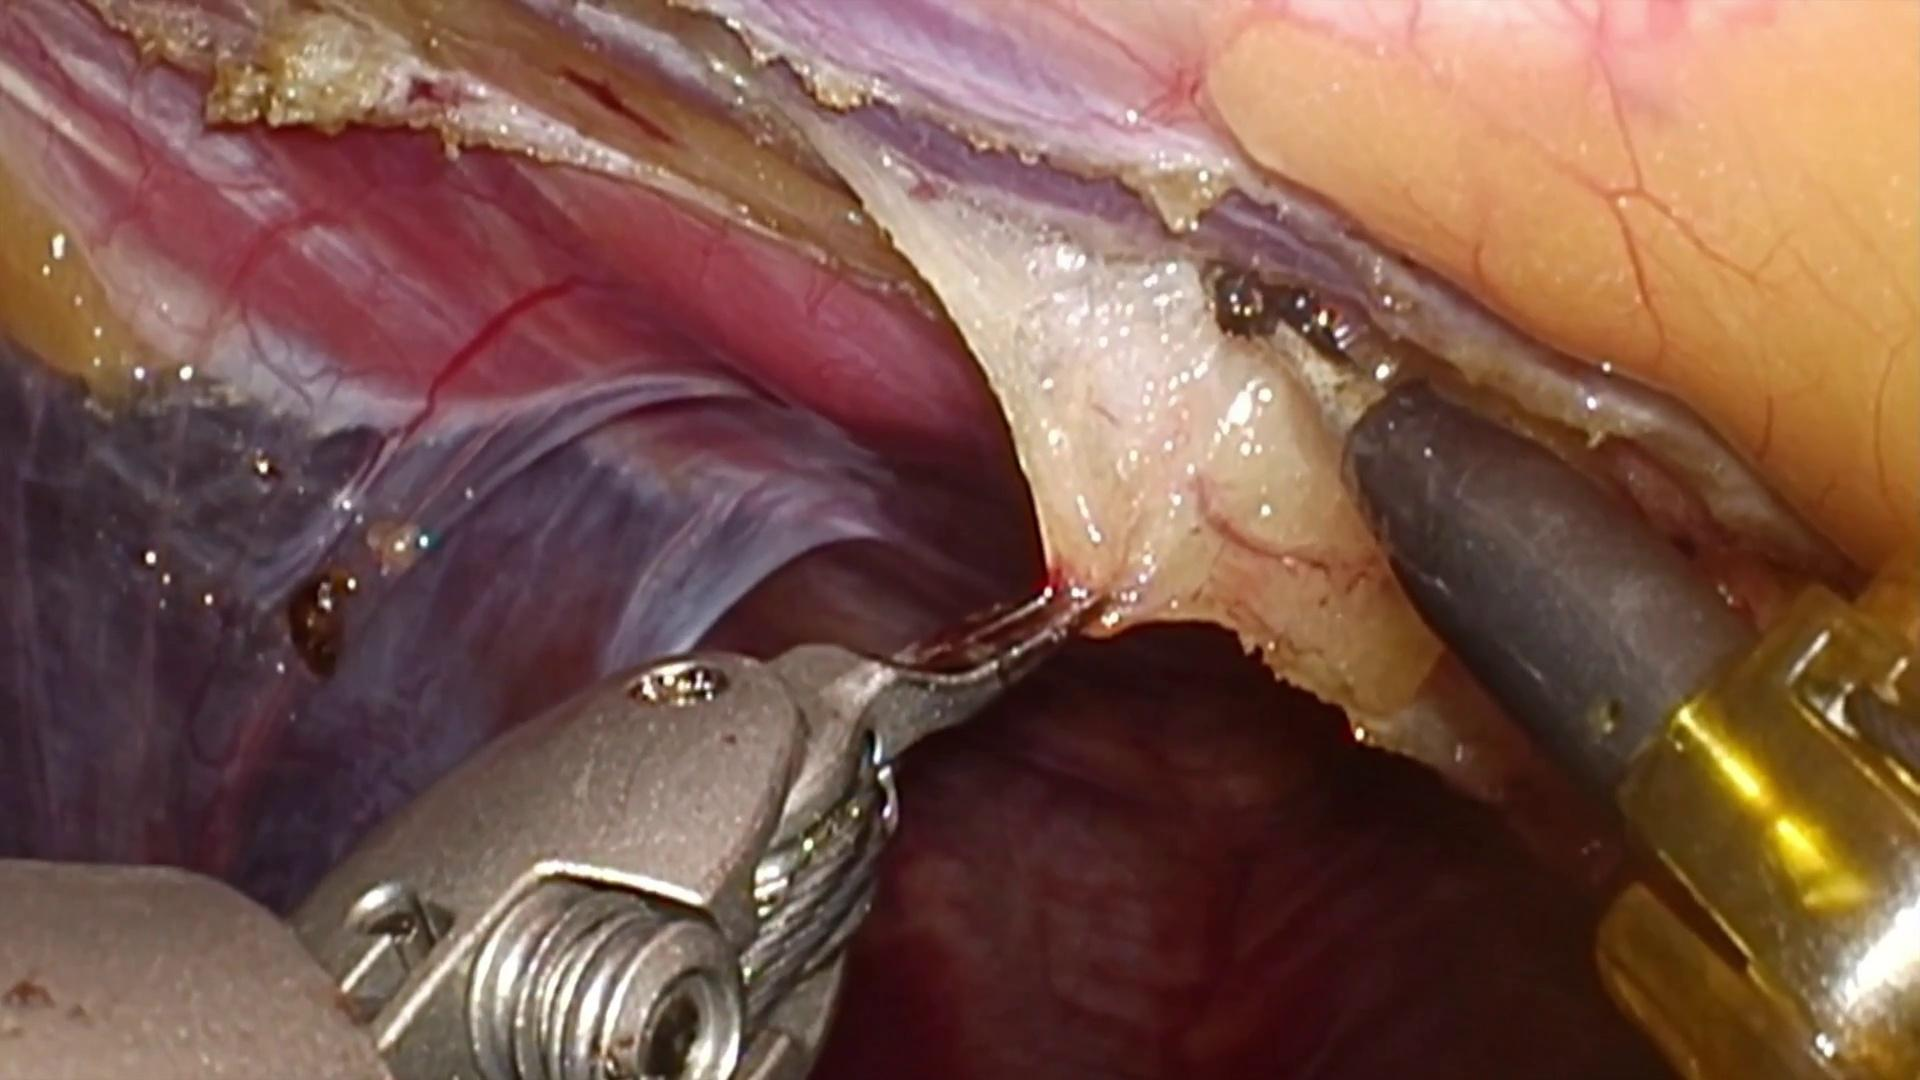Cautery_Spatula: (1200, 258, 1762, 804)
Debakey: (727, 514, 1104, 796)
